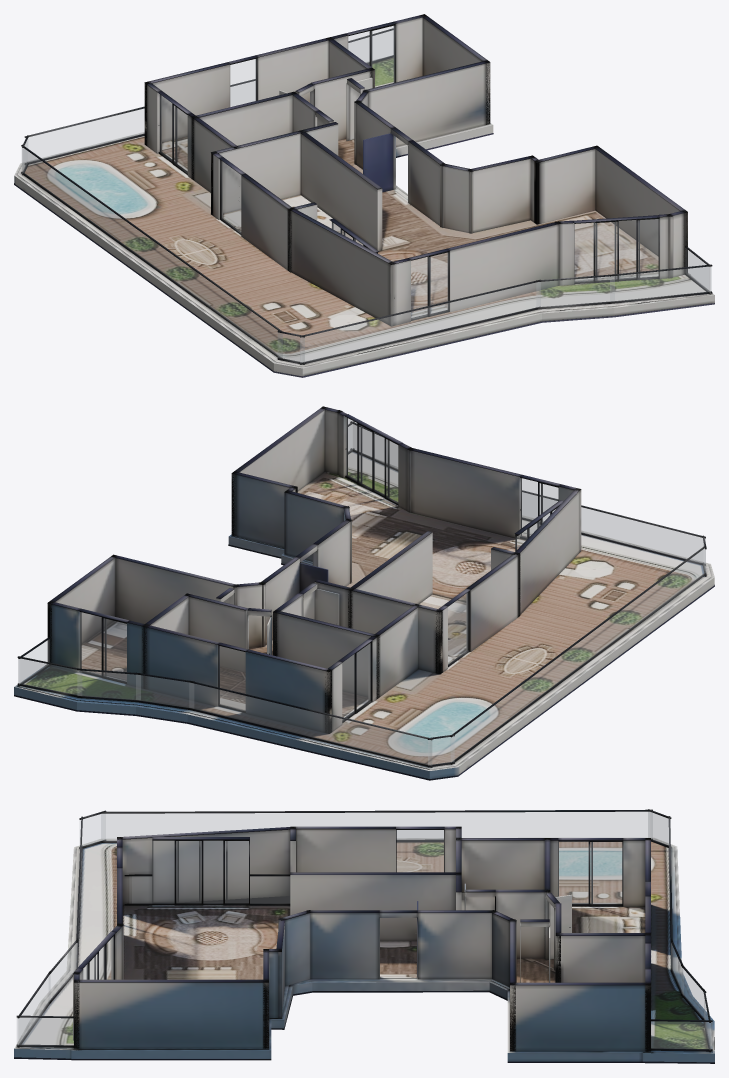
3 renders of one model, top to bottom at view 1: azimuth 30°, elevation 25°; view 2: azimuth 150°, elevation 25°; view 3: azimuth 270°, elevation 25°, orthographic. The views are drawn at different scales.
Visible parts, largest first — view 1: plan, railg15_m, railg17_m, glass5_m, railg13_m, railg19_m, railg18_m, glass4_m, glass2_m, glass0_m, glass6_m, glass1_m (+3 smaller); view 2: plan, railg15_m, railg13_m, railg17_m, glass5_m, glass2_m, railg11_m, railg10_m, glass0_m, glass1_m, railg12_m, glass4_m (+4 smaller); view 3: plan, railg15_m, glass3_m, glass0_m, glass6_m, railg9_m, railg8_m, railg24_m, railg19_m, railg18_m, glass5_m, railg16_m (+3 smaller).
Boxes of the visible parts, x1,y1,x2,y2 form: plan: [14, 14, 714, 377]; railg15_m: [22, 148, 282, 358]; railg17_m: [300, 282, 540, 362]; glass5_m: [574, 219, 658, 281]; railg13_m: [25, 81, 254, 162]; railg19_m: [610, 267, 711, 301]; railg18_m: [536, 276, 614, 307]; glass4_m: [411, 253, 447, 318]; glass2_m: [348, 26, 394, 87]; glass0_m: [159, 95, 187, 171]; glass6_m: [221, 161, 240, 232]; glass1_m: [230, 59, 256, 106]; plan: [14, 406, 714, 780]; railg15_m: [451, 548, 705, 762]; railg13_m: [189, 683, 431, 765]; railg17_m: [522, 492, 705, 562]; glass5_m: [346, 417, 397, 502]; glass2_m: [80, 612, 126, 681]; railg11_m: [77, 670, 140, 699]; railg10_m: [18, 659, 81, 695]; glass0_m: [342, 643, 370, 719]; glass1_m: [219, 646, 245, 710]; railg12_m: [136, 675, 193, 707]; glass4_m: [521, 478, 558, 537]; plan: [14, 809, 714, 1063]; railg15_m: [101, 812, 652, 840]; glass3_m: [152, 841, 248, 903]; glass0_m: [558, 841, 621, 903]; glass6_m: [397, 830, 443, 871]; railg9_m: [651, 1021, 712, 1049]; railg8_m: [17, 1018, 73, 1045]; railg24_m: [250, 876, 289, 903]; railg19_m: [18, 975, 50, 1044]; railg18_m: [49, 943, 77, 1001]; glass5_m: [83, 937, 113, 979]; railg16_m: [80, 814, 105, 846].
Size of the model in its own units: 15.77 by 2.62 by 21.59.
Materials: 2 (1 with a texture image).
